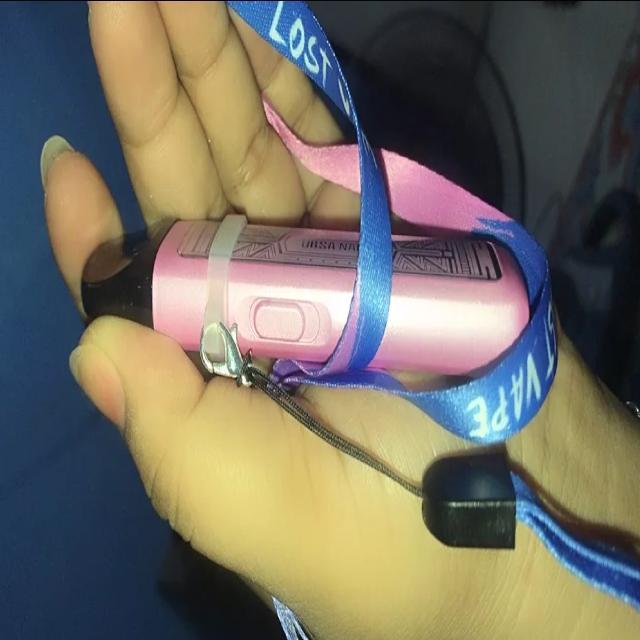Hazard: (79, 216, 528, 380)
